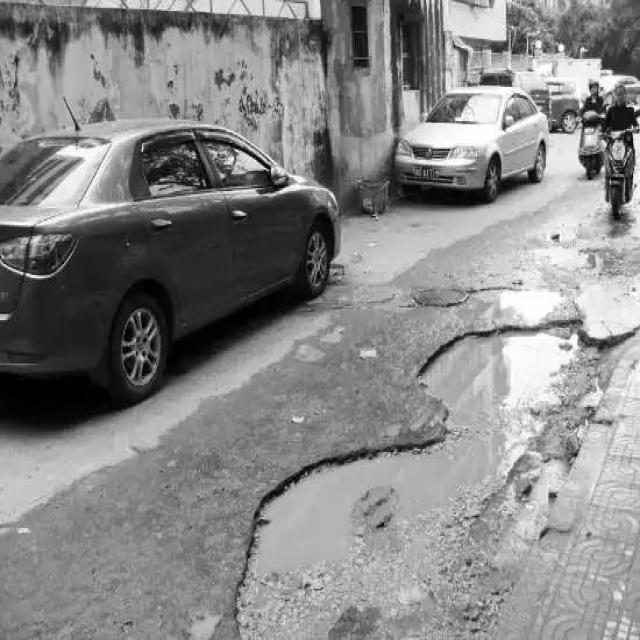Buraco: (228, 315, 638, 640)
